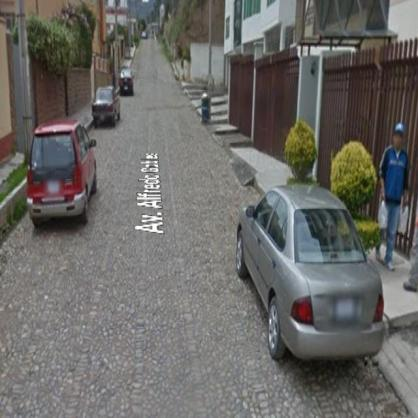car: (235, 179, 388, 370), (23, 122, 100, 231), (94, 87, 119, 127), (122, 71, 134, 100)
